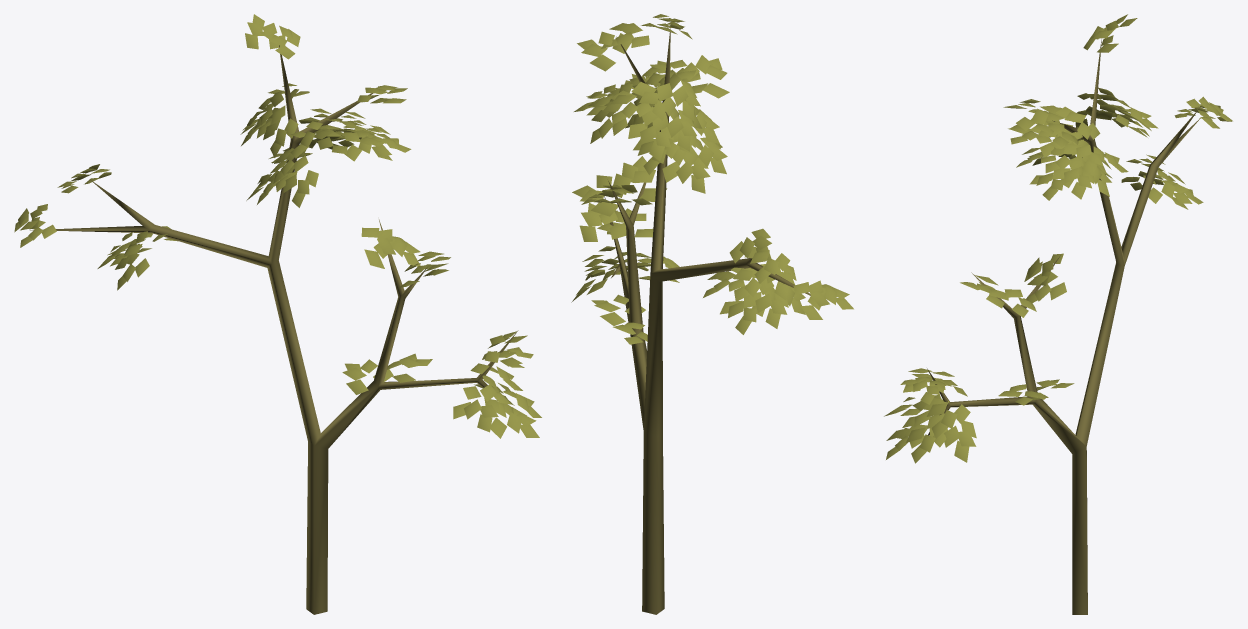
The model's file is tree_01.fbx.
3 views of the same model, side by side, from view 1: azimuth 30°, elevation 25°; view 2: azimuth 150°, elevation 25°; view 3: azimuth 270°, elevation 25° (orthographic). The views are drawn at different scales.
Parts seen in each view (by area): view 1: tree_01_leaves_mesh, tree_01_stump_mesh; view 2: tree_01_leaves_mesh, tree_01_stump_mesh; view 3: tree_01_leaves_mesh, tree_01_stump_mesh.
Boxes of the visible parts, x1,y1,x2,y2 form: tree_01_leaves_mesh: [14, 14, 541, 438]; tree_01_stump_mesh: [30, 45, 518, 614]; tree_01_leaves_mesh: [571, 14, 853, 344]; tree_01_stump_mesh: [604, 28, 810, 614]; tree_01_leaves_mesh: [884, 14, 1232, 463]; tree_01_stump_mesh: [927, 39, 1200, 614].
Bounding box in the file's own units: 16.36 × 23.63 × 13.
